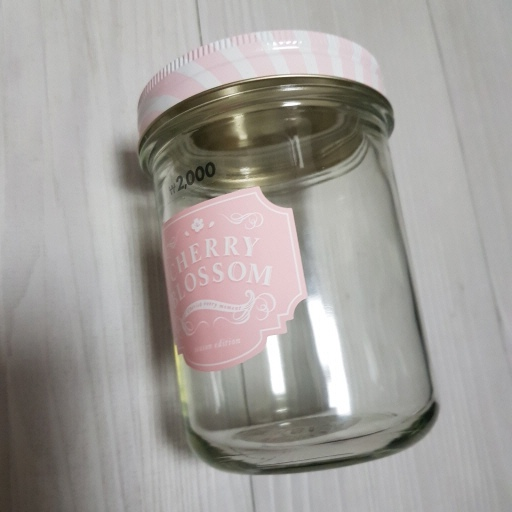Glass_5: (131, 30, 440, 471)
